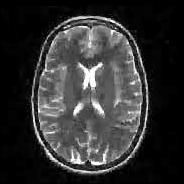Normal_Brain: (1, 8, 160, 181)
